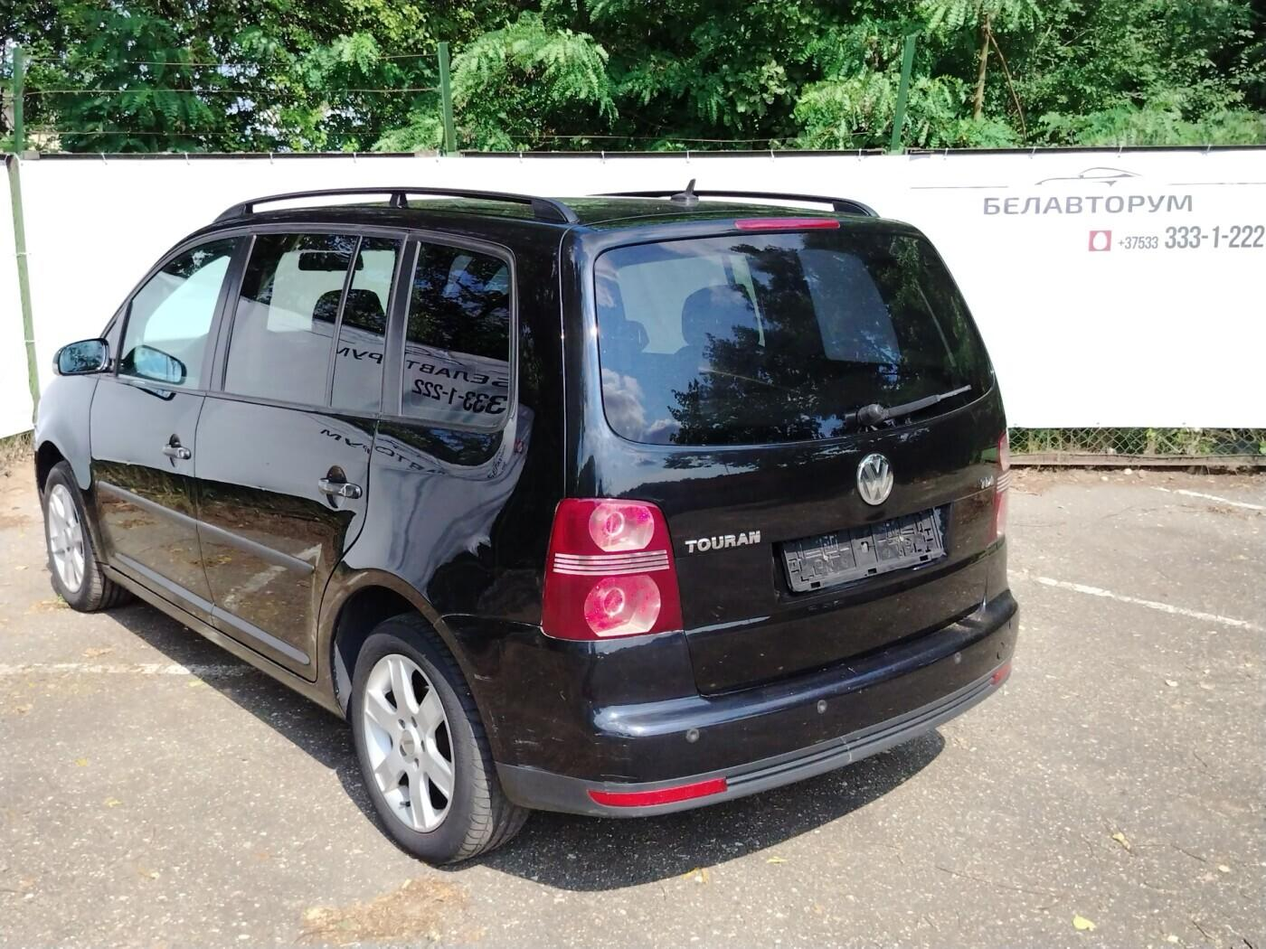Touran_2006-2010: (28, 192, 1022, 856)
